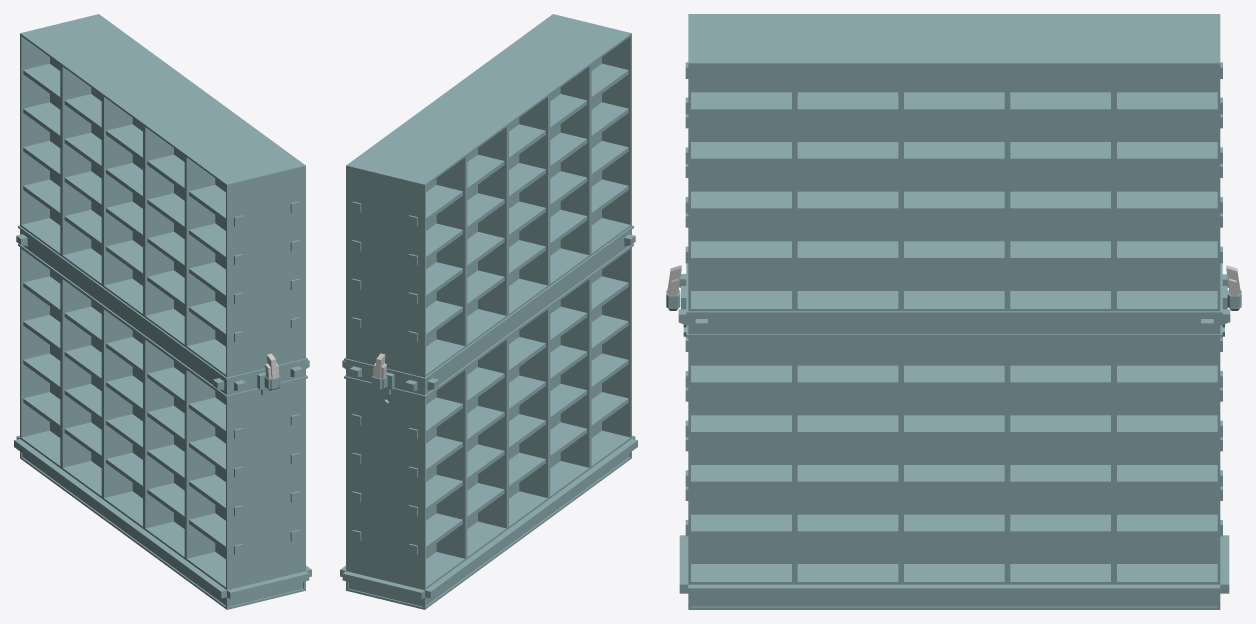
The model's file is BookCase_Empty.FBX.
3 renders of one model, left to right at view 1: azimuth 30°, elevation 25°; view 2: azimuth 150°, elevation 25°; view 3: azimuth 270°, elevation 25°, orthographic. The views are drawn at different scales.
Visible parts, largest first — view 1: BookCase_Empty_LOD0; view 2: BookCase_Empty_LOD0; view 3: BookCase_Empty_LOD0.
Boxes of the visible parts, x1=… form: BookCase_Empty_LOD0: x1=14, y1=14, x2=311, y2=609; BookCase_Empty_LOD0: x1=340, y1=14, x2=637, y2=609; BookCase_Empty_LOD0: x1=666, y1=14, x2=1241, y2=609.
Size of what is drawn, in the model's own units: 88.41 by 390 by 373.
